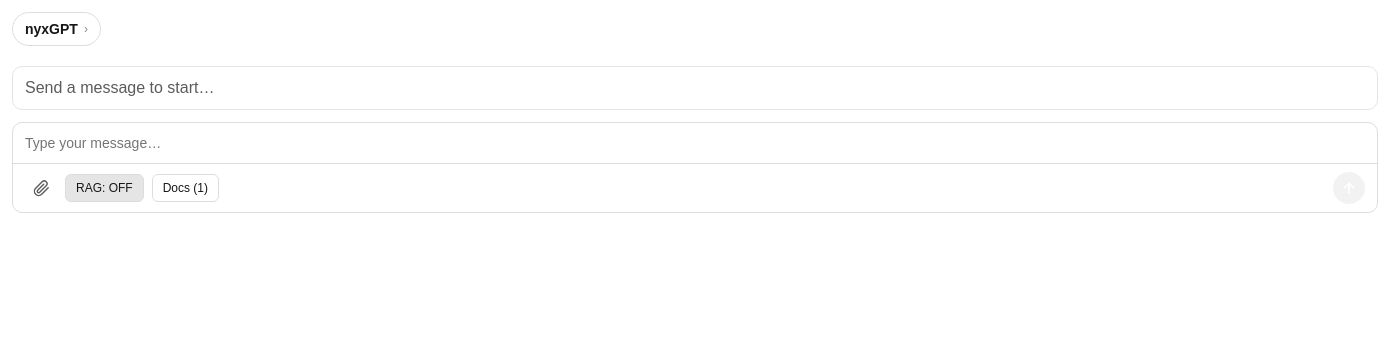
attachDocument/detachDocument/toggleRag remaining branches › detachDocument succeeds and falls back to [] when attached_doc_ids is missing from the response
Click the button "RAG: OFF". click: click(104, 188)
box: x1=65 y1=174 x2=144 y2=202
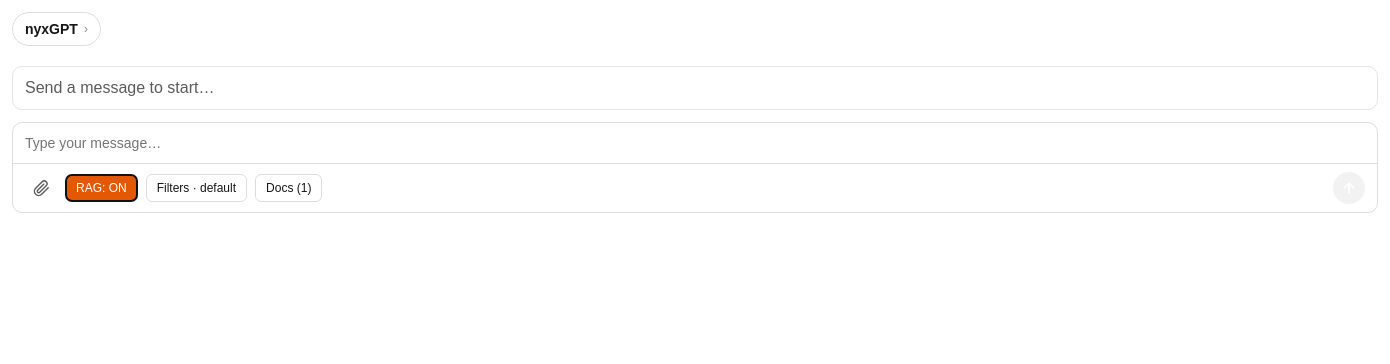
Click the button "Docs (1)". click: click(289, 188)
box: x1=255 y1=174 x2=322 y2=202
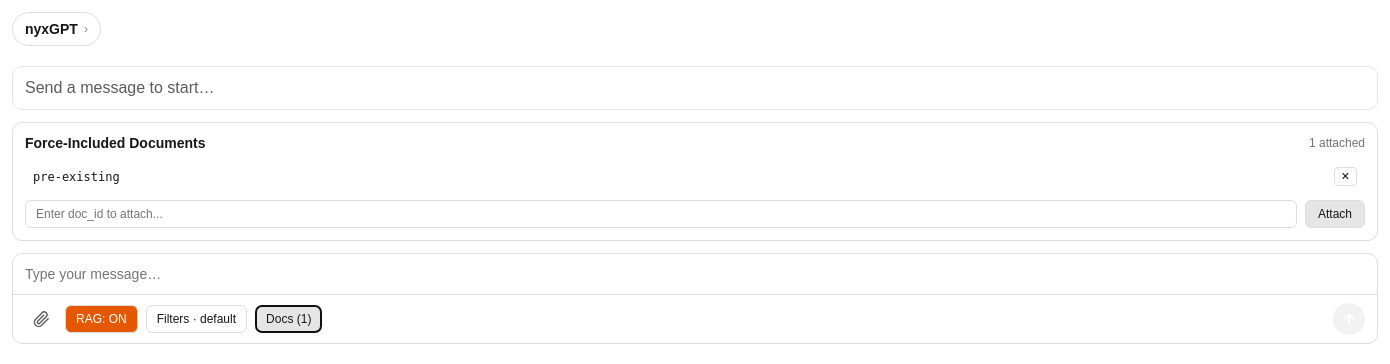
Click the button titled "Detach document". click: click(1345, 176)
box: x1=1334 y1=167 x2=1357 y2=186
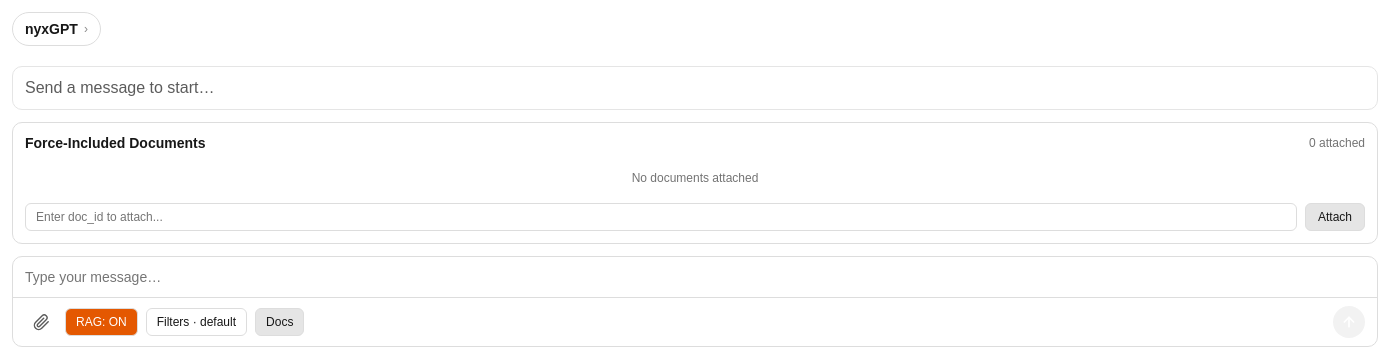
Now the text "No documents attached" is shown, box x1=632 y1=171 x2=758 y2=185
